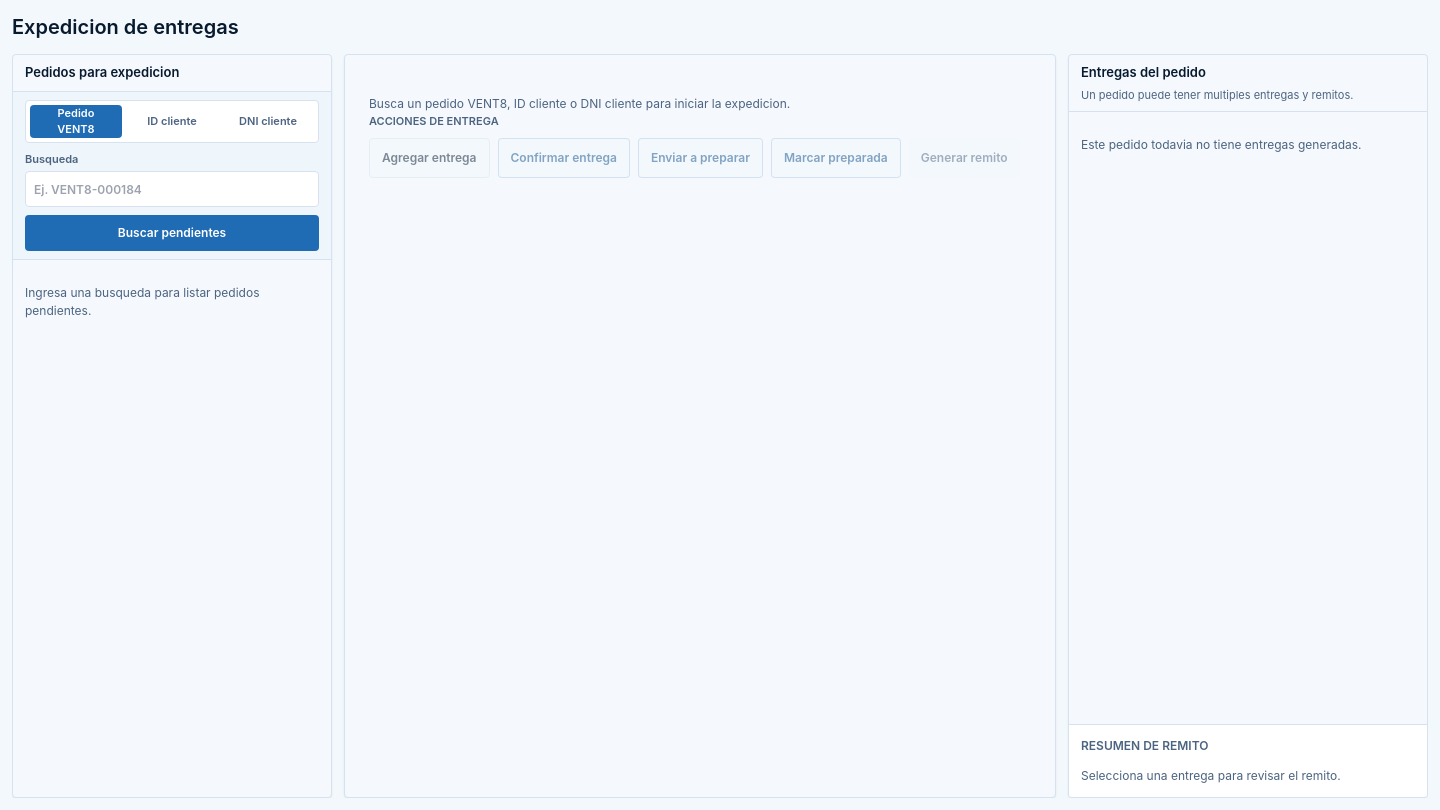
Test: DeliveryExpeditionPage › renders expedition workflow for split deliveries
The image size is (1440, 810).
Expected: the heading "Expedicion de entregas" is shown, [12, 15, 239, 39]
Expected: the text "PED-000184" is not shown
Step 1. Type "PED-000184" into the field labelled "Busqueda" → x=172, y=189, box [25, 171, 319, 207]
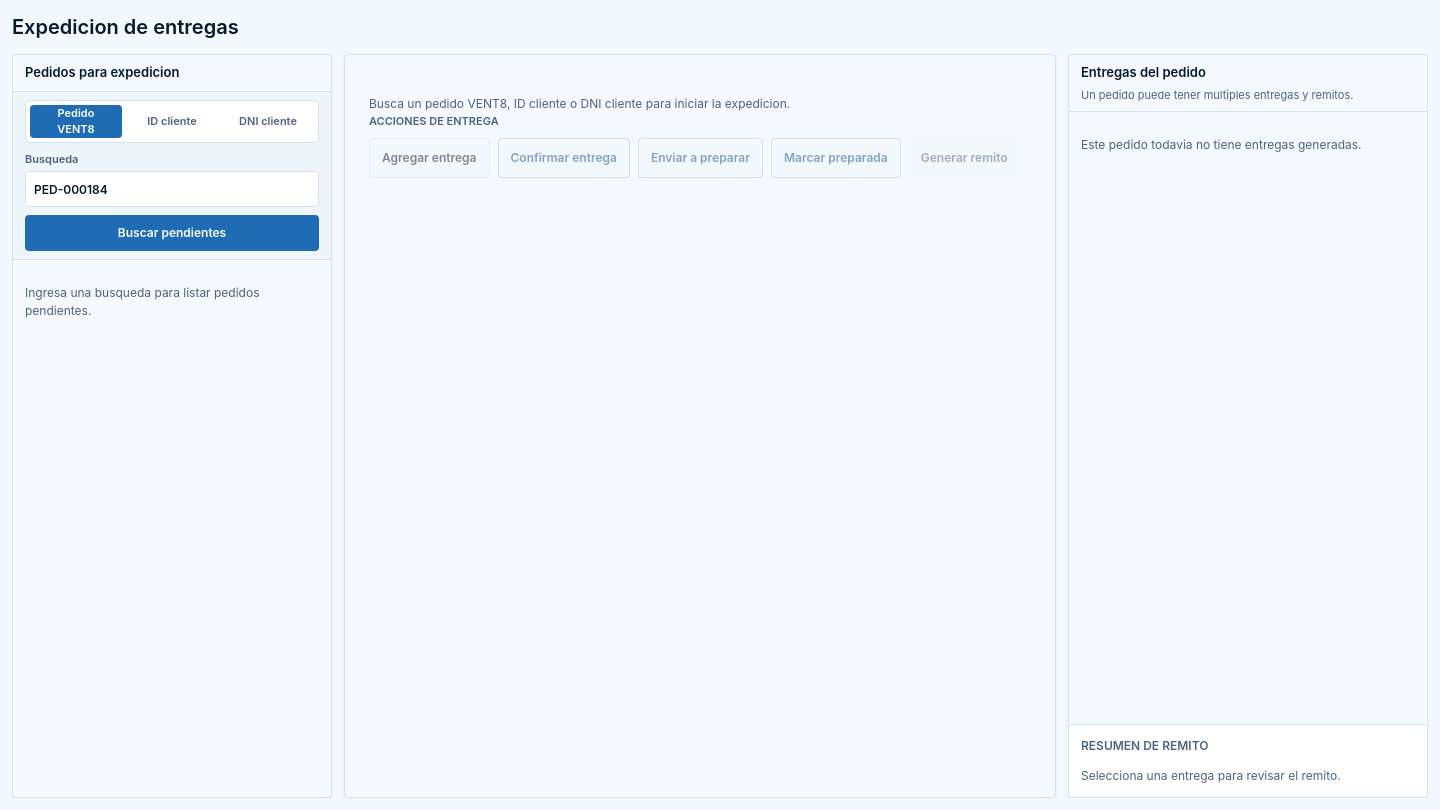
Step 2. Click the button "Buscar pendientes" → x=172, y=233, box [25, 215, 319, 251]
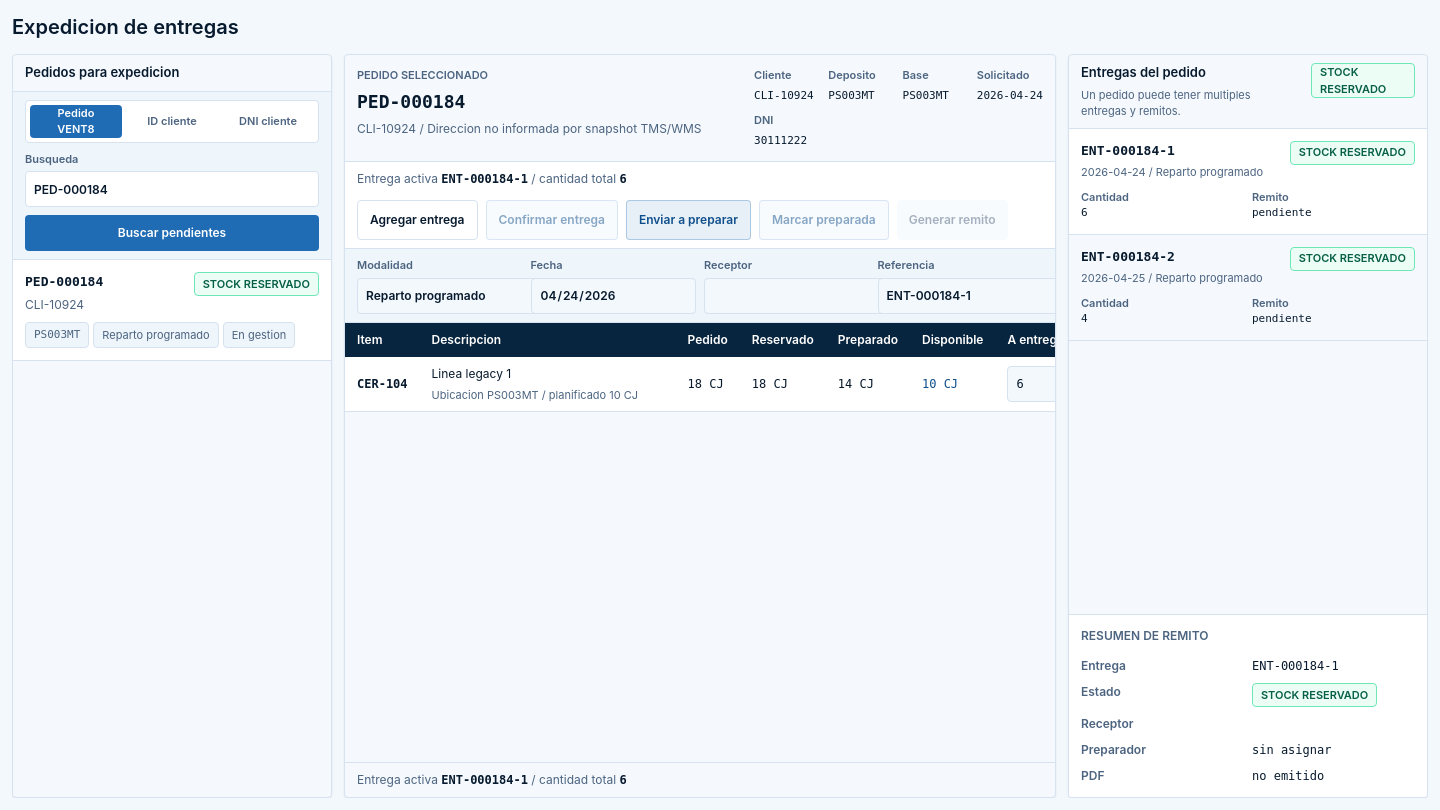
Expected: the text "PED-000184" is shown, [25, 272, 103, 292]
Expected: the 2nd text "ENT-000184-1" is shown, [441, 172, 528, 186]
Expected: the text "ENT-000184-2" is shown, [1081, 248, 1175, 264]
